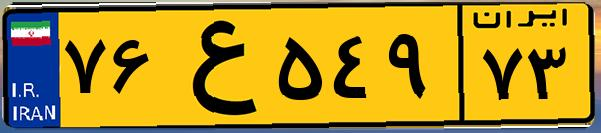3: (525, 38, 570, 115)
4: (330, 28, 385, 110)
5: (270, 28, 330, 110)
6: (110, 28, 158, 98)
7: (57, 26, 110, 100), (475, 38, 525, 113)
9: (385, 28, 445, 110)
ع: (158, 12, 270, 120)
